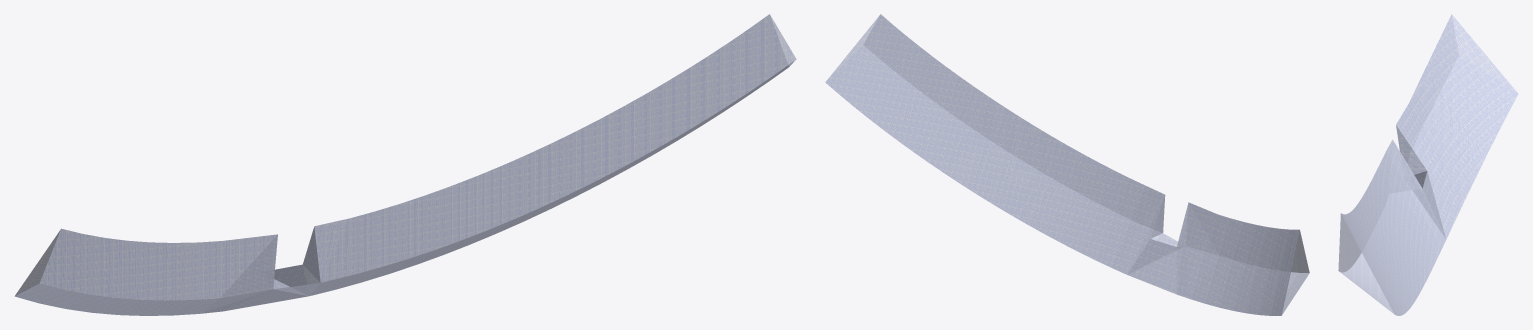
The model's file is TruckOpeningSegment2.obj.
3 renders of one model, left to right at view 1: azimuth 30°, elevation 25°; view 2: azimuth 150°, elevation 25°; view 3: azimuth 270°, elevation 25°, orthographic. The views are drawn at different scales.
Parts seen in each view (by area): view 1: TruckOpeningSegment; view 2: TruckOpeningSegment; view 3: TruckOpeningSegment.
Part boxes in pixels (bbox=[...]): TruckOpeningSegment: bbox=[14, 14, 796, 315]; TruckOpeningSegment: bbox=[825, 14, 1309, 315]; TruckOpeningSegment: bbox=[1338, 14, 1518, 315].
Size of the model in its own units: 91.64 by 27.95 by 21.69.
